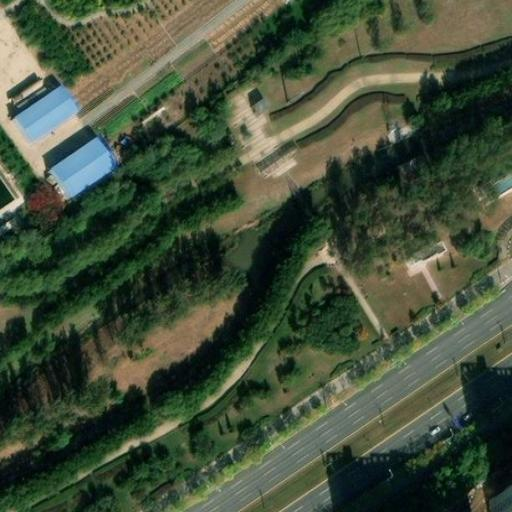building: (47, 136, 118, 201), (10, 84, 79, 145), (392, 153, 430, 188), (0, 171, 19, 213), (494, 484, 512, 512)
